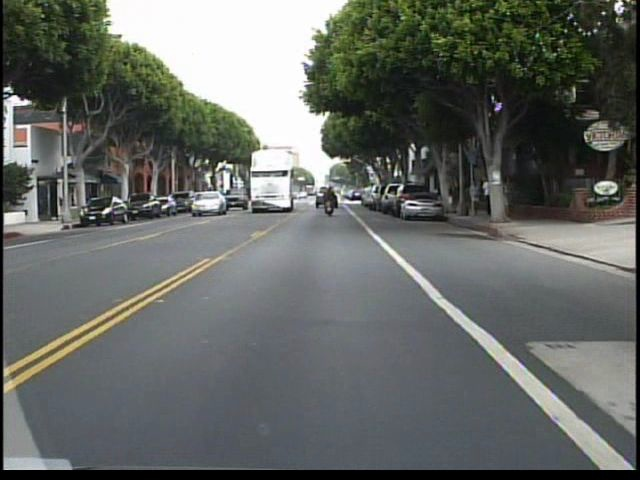person: (321, 182, 339, 220), (468, 175, 483, 219), (480, 175, 492, 220), (505, 172, 511, 219)
